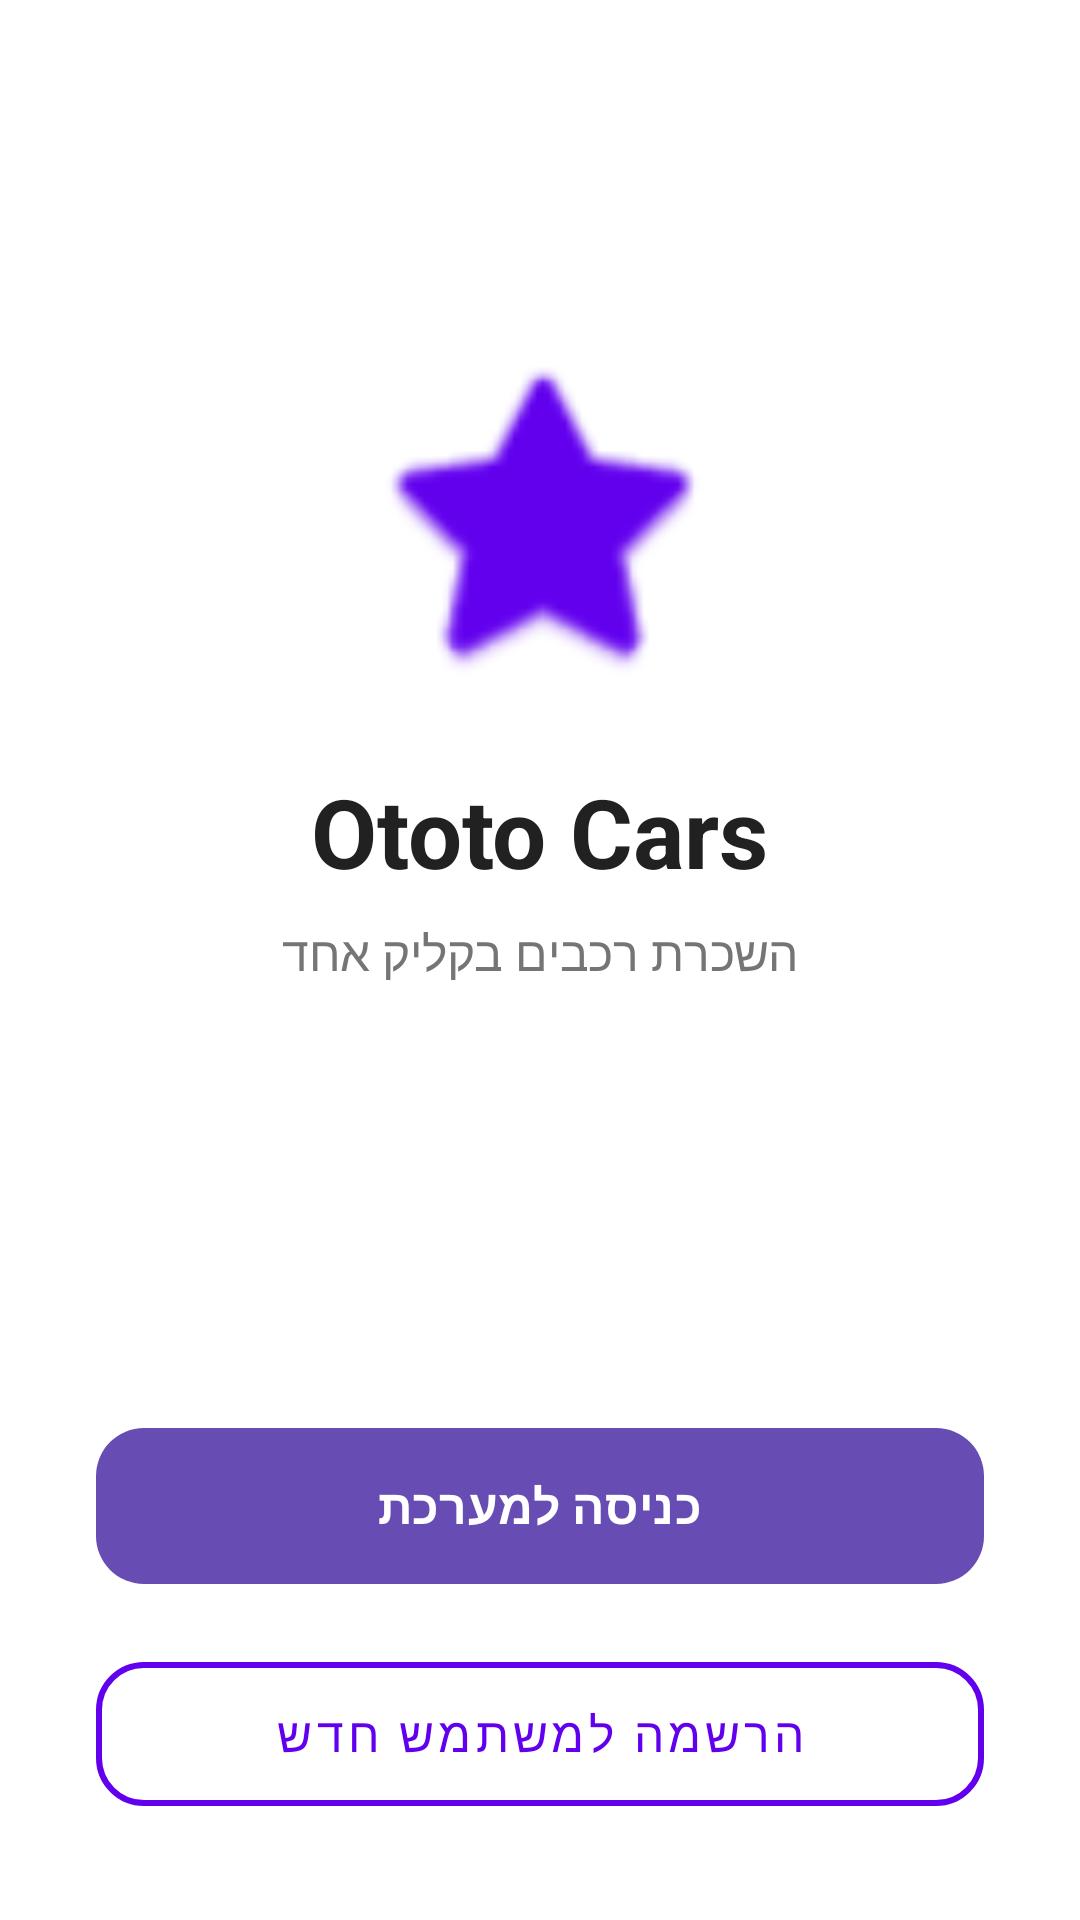

Screen size 1080px x 1920px. Icon name, then its center in pixels as (x=x, y=y):
star on: (x=543, y=517)
